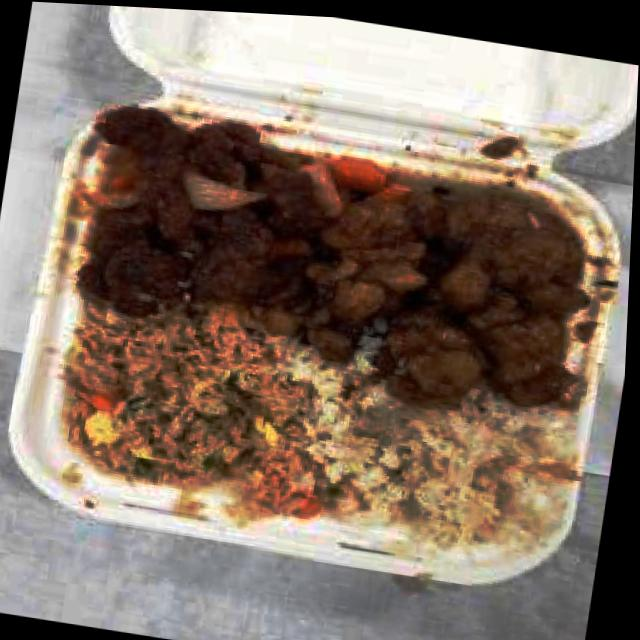Beijing Beef: (82, 105, 333, 320)
Fried Rice: (61, 291, 327, 501)
Kung Pao Chicken: (339, 173, 593, 410)
rice: (320, 398, 544, 538)
